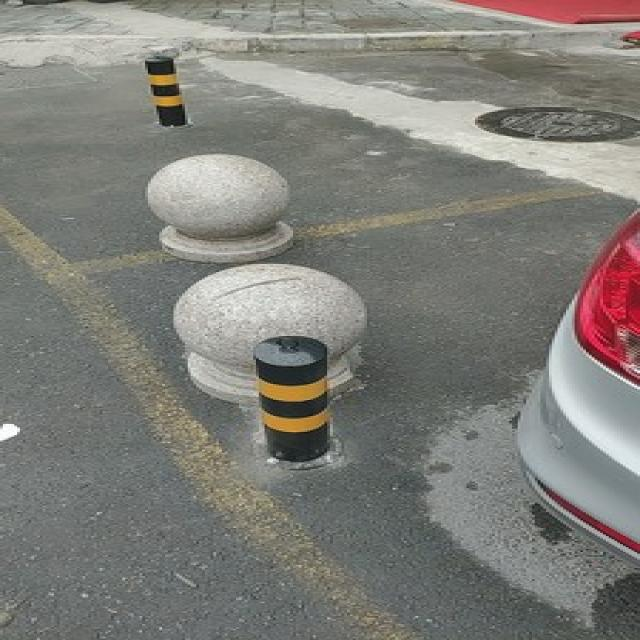car: (509, 202, 637, 562)
spherical_roadblock: (168, 261, 370, 403), (145, 152, 296, 259)
warning_column: (245, 333, 341, 467), (145, 53, 191, 126)
